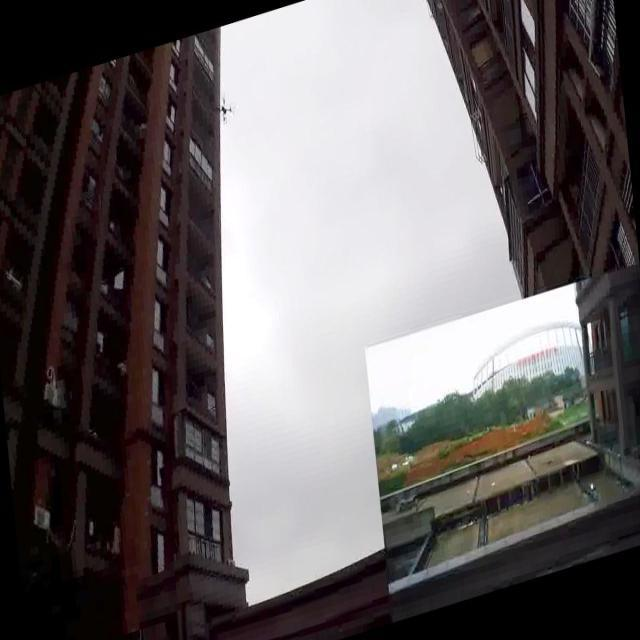drone: (212, 90, 240, 128)
